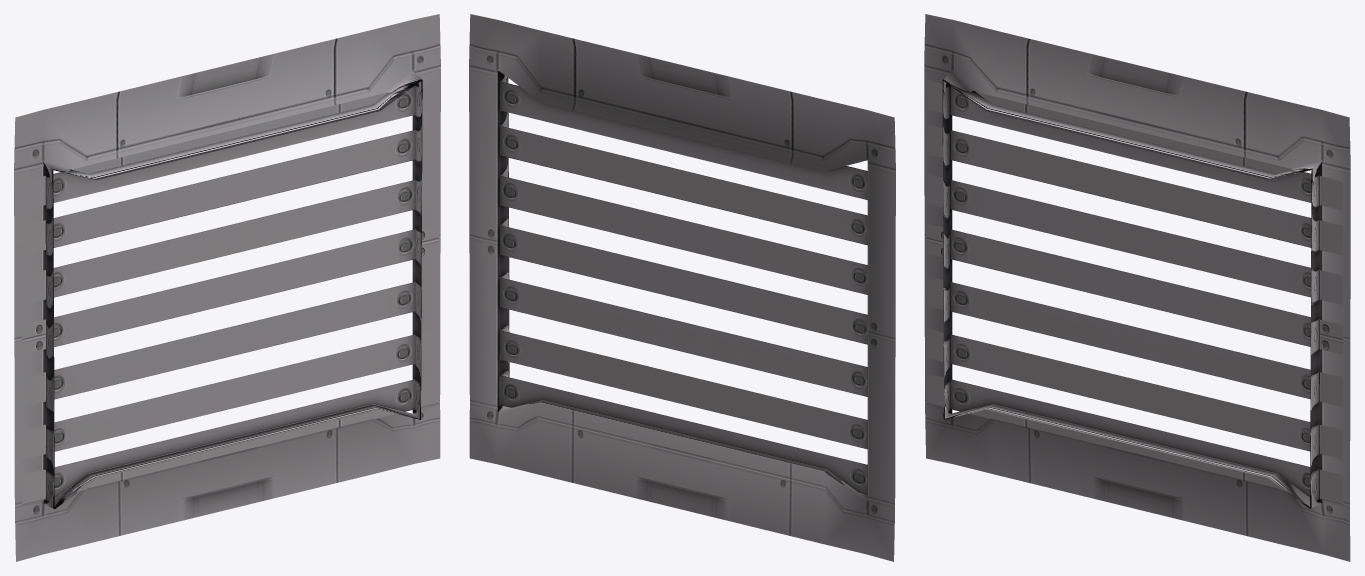
The model's file is Aeration.fbx.
The picture shows the model from 3 angles, left to right: view 1: azimuth 30°, elevation 25°; view 2: azimuth 150°, elevation 25°; view 3: azimuth 330°, elevation 25°; orthographic projection.
Visible parts, largest first — view 1: Low_sppgrille:RetopoGroup2; view 2: Low_sppgrille:RetopoGroup2; view 3: Low_sppgrille:RetopoGroup2.
Boxes of the visible parts, bbox=[...] form: Low_sppgrille:RetopoGroup2: bbox=[14, 14, 440, 561]; Low_sppgrille:RetopoGroup2: bbox=[469, 14, 895, 561]; Low_sppgrille:RetopoGroup2: bbox=[924, 14, 1350, 561].
Size of the model in its own units: 129 by 129 by 5.71.
